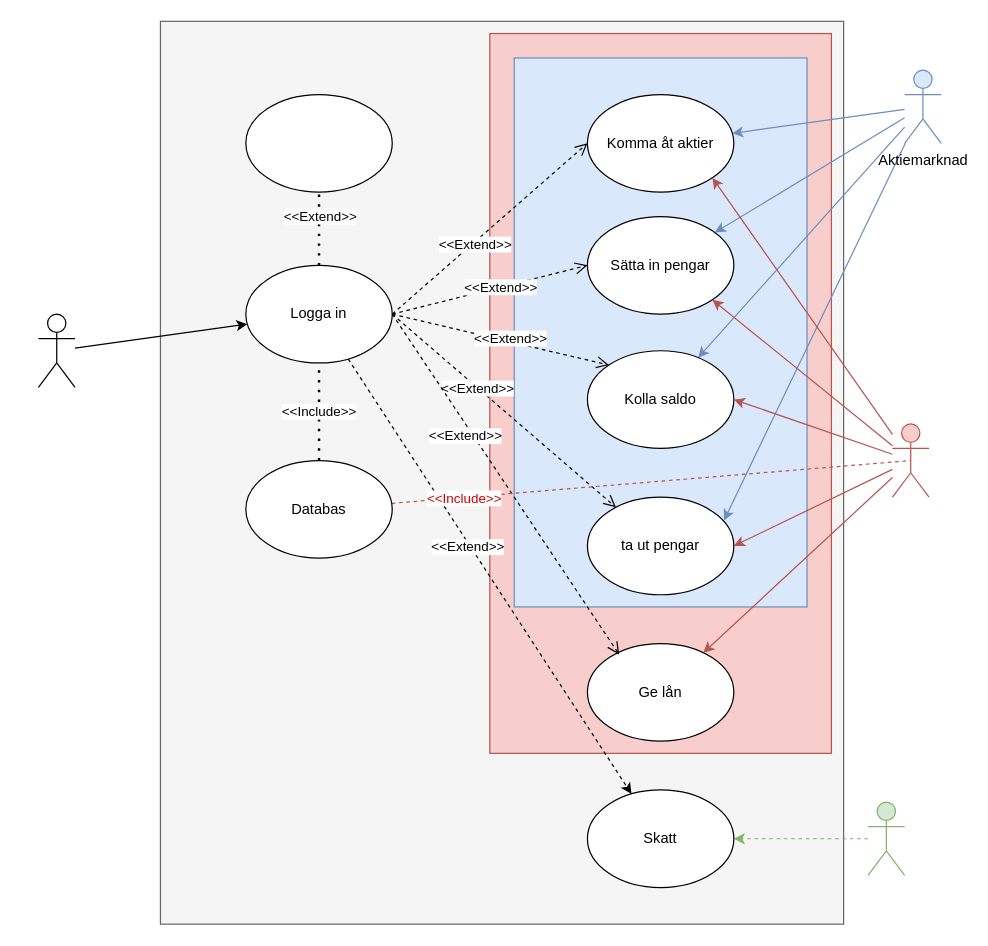
This 988x946 diagram has some shape labels left out. The shapes that lost their labels are listed below. From the top down, each one's centre as x and y in pixels, then its label:
(x=318, y=142): registrera sig
(x=56, y=350): Användare
(x=910, y=460): Bank
(x=886, y=838): Actor
